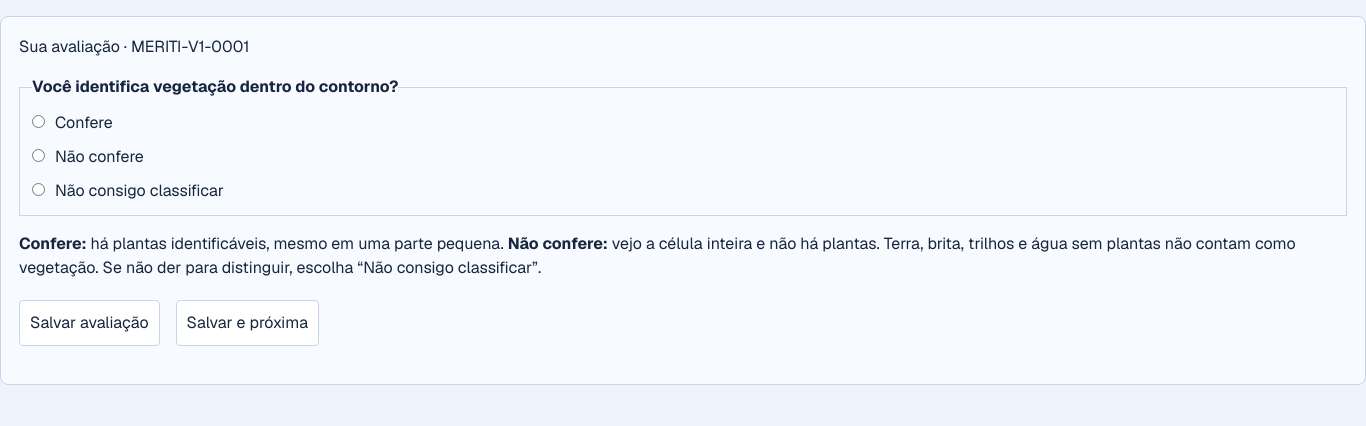
Test case: human review › does not save without a choice
The width and height of the screenshot is (1366, 426).
Step 1. Click the button "Salvar avaliação" → click(89, 323), box [19,300,160,346]
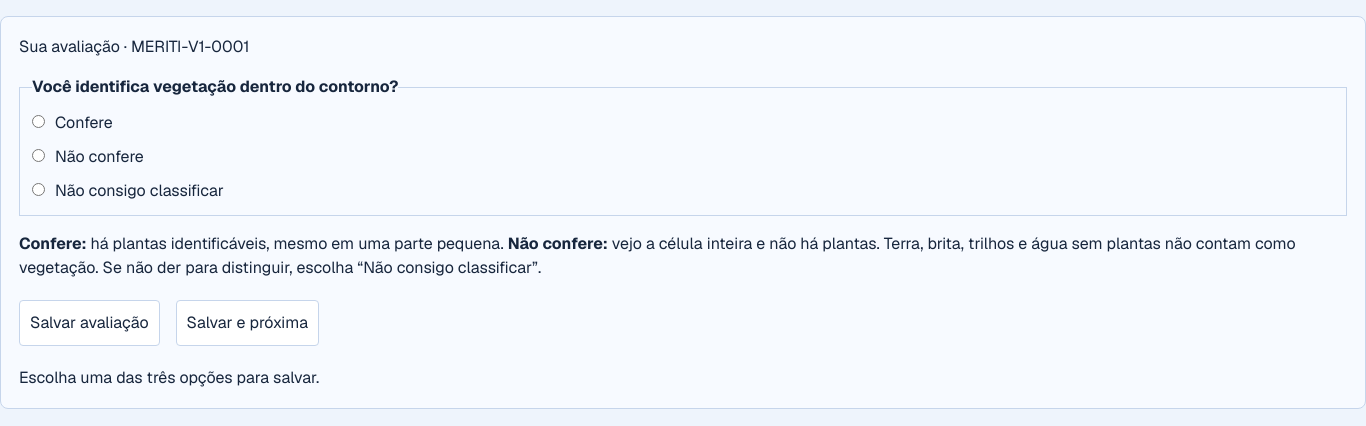
Check: the message shows "Escolha uma das três opções", box [19,367,319,388]
